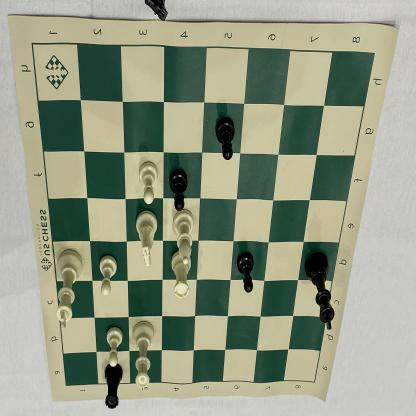black-king: (302, 249, 338, 332)
black-pawn: (214, 114, 238, 164), (166, 168, 190, 213), (235, 248, 257, 296)
black-rook: (100, 359, 126, 414)
white-bishop: (172, 204, 196, 269)
white-king: (53, 245, 86, 334)
white-knight: (133, 208, 160, 270)
white-pawn: (96, 251, 120, 299), (136, 158, 159, 208), (102, 324, 126, 368)
white-queen: (130, 318, 158, 392)
white-rook: (167, 247, 194, 304)
